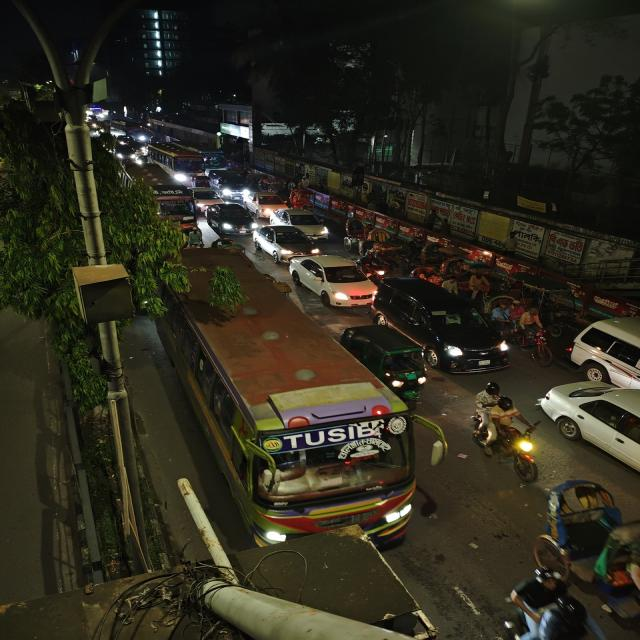bus: (167, 255, 435, 545), (148, 142, 207, 180), (156, 183, 196, 224)
car: (372, 276, 512, 374), (537, 379, 640, 479), (564, 316, 640, 390), (285, 254, 377, 308), (252, 224, 318, 260), (204, 202, 256, 238), (270, 209, 331, 237), (209, 170, 252, 198), (250, 190, 289, 216), (190, 187, 226, 211)
cng: (346, 323, 429, 389)
motorcycle: (468, 383, 542, 483)
rickshaw: (528, 472, 640, 640), (488, 294, 554, 360), (341, 217, 370, 248), (254, 174, 276, 192)
